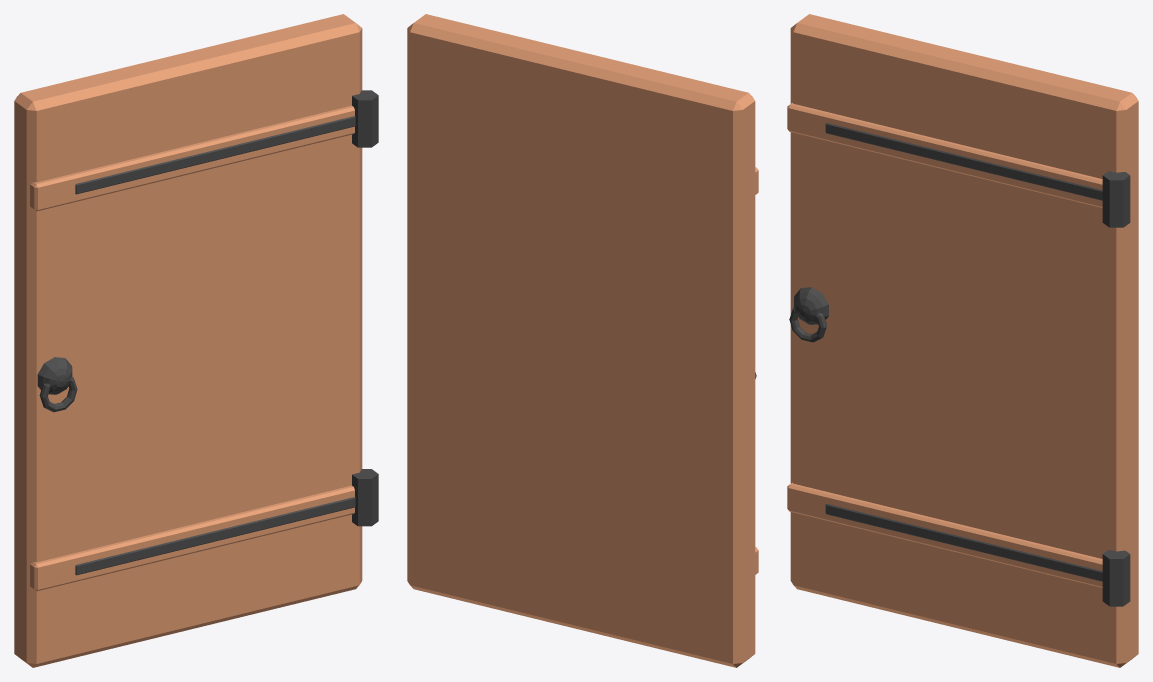
The model's file is Door1.fbx.
3 renders of one model, left to right at view 1: azimuth 30°, elevation 25°; view 2: azimuth 150°, elevation 25°; view 3: azimuth 330°, elevation 25°, orthographic.
Visible parts, largest first — view 1: Cube.133, Cube.135, Cube.136, Cube.137, Cube.134, Cylinder.013, Cylinder.014, Sphere.001, Torus.002; view 2: Cube.133; view 3: Cube.133, Cube.136, Cube.135, Cube.134, Cube.137, Cylinder.014, Cylinder.013, Sphere.001, Torus.002.
Part boxes in pixels (left/top/right/bottom): Cube.133: left=14, top=14, right=362, bottom=667; Cube.135: left=30, top=485, right=354, bottom=591; Cube.136: left=30, top=105, right=354, bottom=211; Cube.137: left=75, top=497, right=355, bottom=575; Cube.134: left=75, top=116, right=355, bottom=194; Cylinder.013: left=352, top=90, right=378, bottom=147; Cylinder.014: left=352, top=469, right=378, bottom=526; Sphere.001: left=37, top=357, right=72, bottom=394; Torus.002: left=39, top=376, right=77, bottom=412; Cube.133: left=407, top=14, right=755, bottom=667; Cube.133: left=790, top=14, right=1138, bottom=667; Cube.136: left=787, top=102, right=1102, bottom=207; Cube.135: left=787, top=482, right=1102, bottom=587; Cube.134: left=825, top=123, right=1102, bottom=200; Cube.137: left=825, top=504, right=1102, bottom=581; Cylinder.014: left=1102, top=550, right=1130, bottom=606; Cylinder.013: left=1102, top=171, right=1130, bottom=227; Sphere.001: left=794, top=287, right=828, bottom=324; Torus.002: left=789, top=307, right=826, bottom=342.
Size of the model in its own units: 204 by 322 by 29.94.
